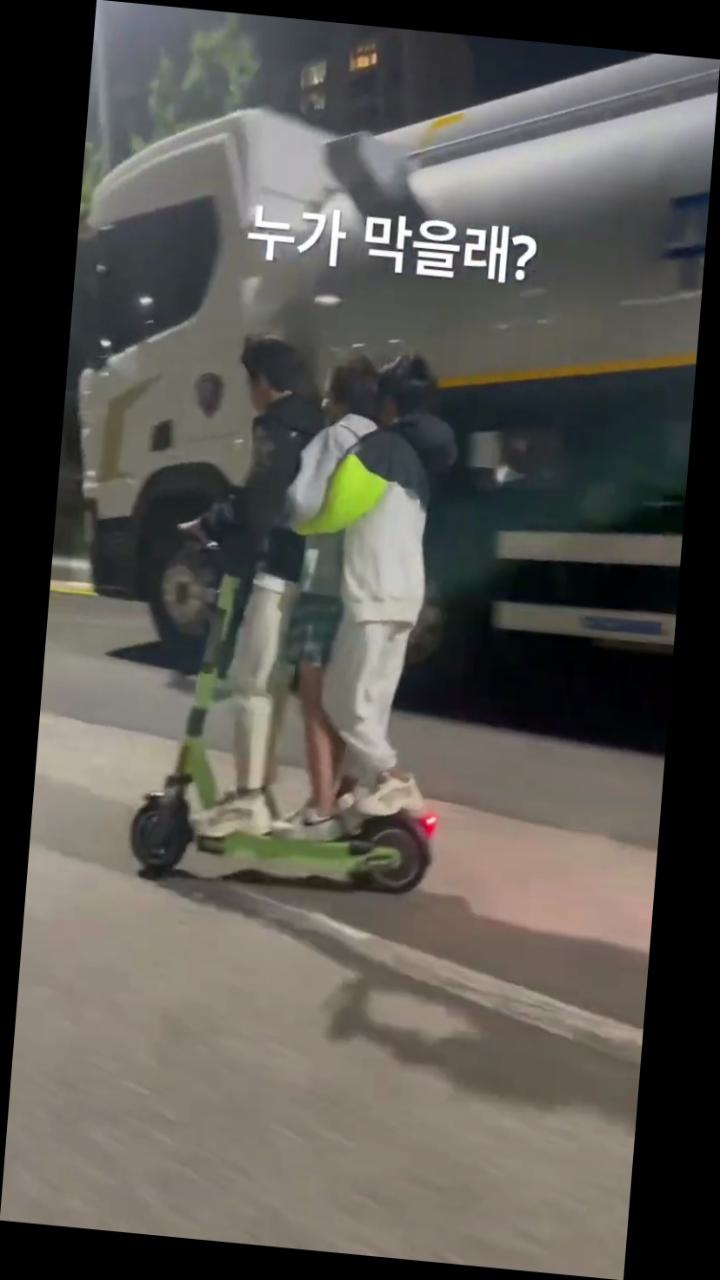multiple: (124, 319, 480, 905)
